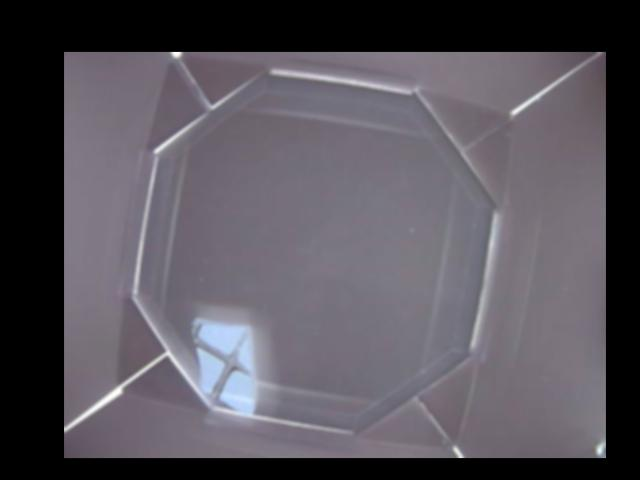China: (194, 320, 253, 415)
